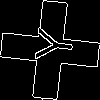Y: (25, 25, 74, 64)
